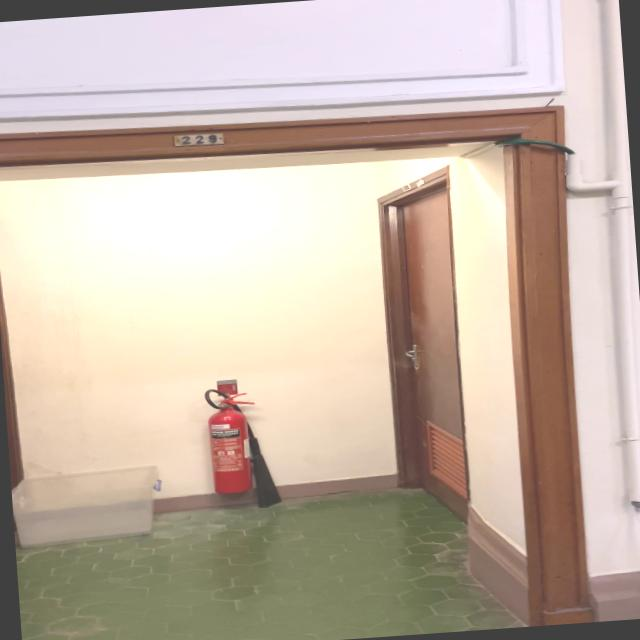room229: (170, 129, 231, 150)
